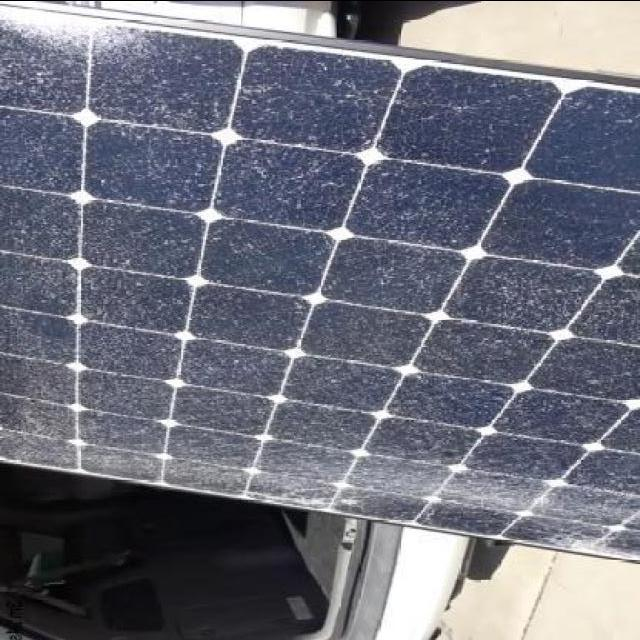cracked: (1, 49, 640, 589)
